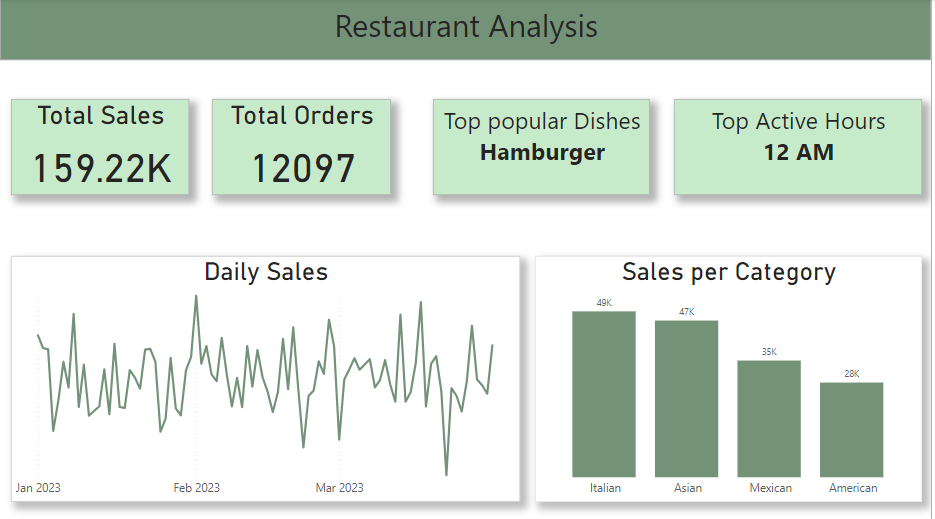

Layout of this report page (visuals, bound fields, positions):
{"tool":"powerbi","page":{"name":"Dash Board","canvas":[1280,720],"ordinal":0},"visuals":[{"type":"textbox","box":[0,0,1280,83.9],"z":0},{"type":"card","title":"Total Sales","fields":{"Values":["Sum(order_details.Price)"]},"box":[15.1,137.5,244.7,132],"z":1000},{"type":"card","title":"Total Orders","fields":{"Values":["CountNonNull(order_details.order_id)"]},"box":[291.5,137.5,246.1,132],"z":2000},{"type":"lineChart","title":"Daily Sales","fields":{"Y":["Sum(order_details.Price)"],"Category":["order_details.date.Variation.Date Hierarchy.Year","order_details.date.Variation.Date Hierarchy.Quarter","order_details.date.Variation.Date Hierarchy.Month","order_details.date.Variation.Date Hierarchy.Day"]},"box":[15.1,353.3,699.8,338.2],"z":3000},{"type":"clusteredColumnChart","title":"Sales per Category","fields":{"Category":["order_details.category"],"Y":["Sum(order_details.Price)"]},"box":[735.6,353.3,532.1,338.2],"z":4000},{"type":"textbox","box":[595.3,137.5,298.3,132],"z":4001},{"type":"textbox","box":[926.7,137.5,341,132],"z":4002}]}

Visuals, with their boxes in screenshot pixels (x1, y1, x2, y2), scaled from the page's 1280x720 canvas onto the 935x519 screenshot:
textbox: {"left": 0, "top": 0, "right": 934, "bottom": 60}
"Total Sales" card: {"left": 11, "top": 99, "right": 190, "bottom": 194}
"Total Orders" card: {"left": 213, "top": 99, "right": 393, "bottom": 194}
"Daily Sales" lineChart: {"left": 11, "top": 255, "right": 522, "bottom": 498}
"Sales per Category" clusteredColumnChart: {"left": 537, "top": 255, "right": 926, "bottom": 498}
textbox: {"left": 435, "top": 99, "right": 653, "bottom": 194}
textbox: {"left": 677, "top": 99, "right": 926, "bottom": 194}
